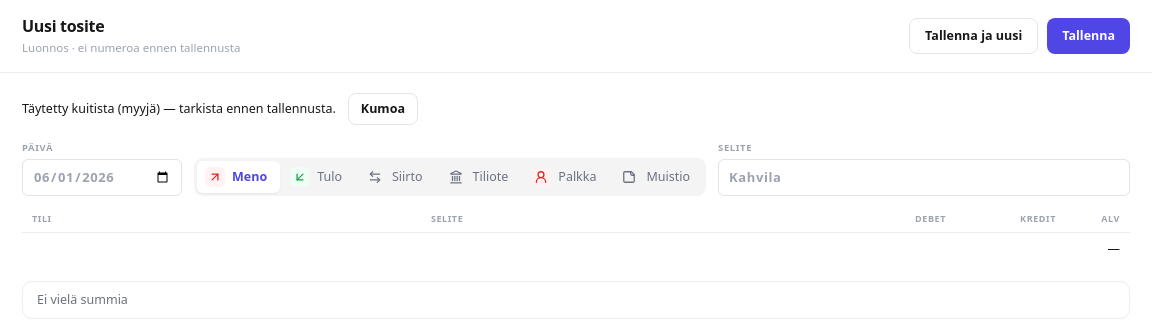
Test: TositeEditori — ulkoinen täyttö (kuitti) › ilmoitus katoaa tallennukseen, vaikka lomake jää auki
Expected: the text "Täytetty kuitista (myyjä) — tarkista ennen tallennusta." is shown, x1=22 y1=100 x2=336 y2=118
Click the button "Tallenna".
click(1089, 36)  # box x1=1047 y1=18 x2=1130 y2=54
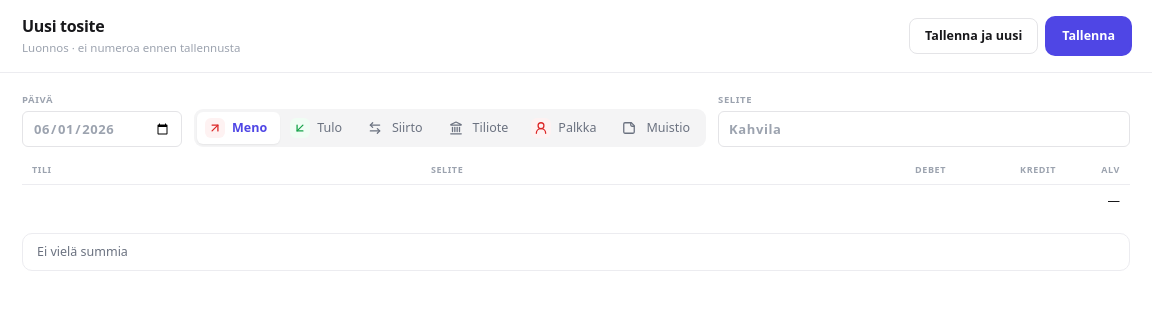
Expected: the field labelled "Selite" holds "Kahvila", x1=718 y1=111 x2=1130 y2=147
Expected: the text "Täytetty kuitista" is gone
